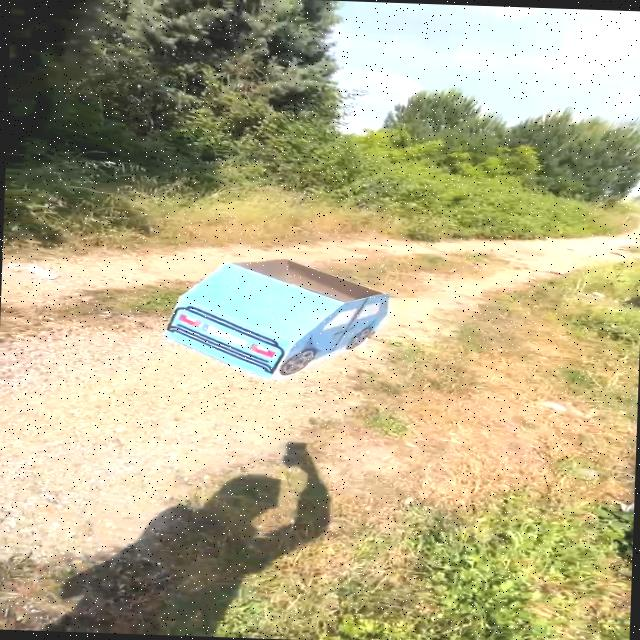blue_car: (144, 243, 424, 397)
